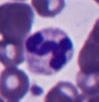N: (24, 27, 74, 75)
